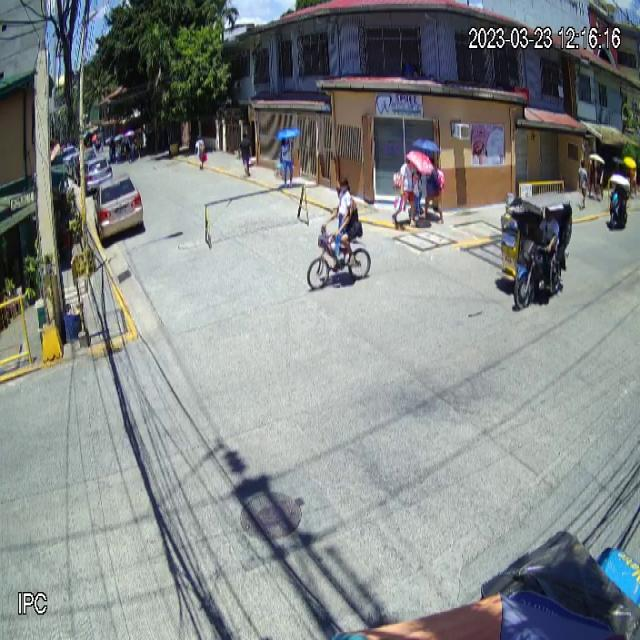Car: (93, 173, 143, 240)
Tricycle: (498, 187, 571, 315)
